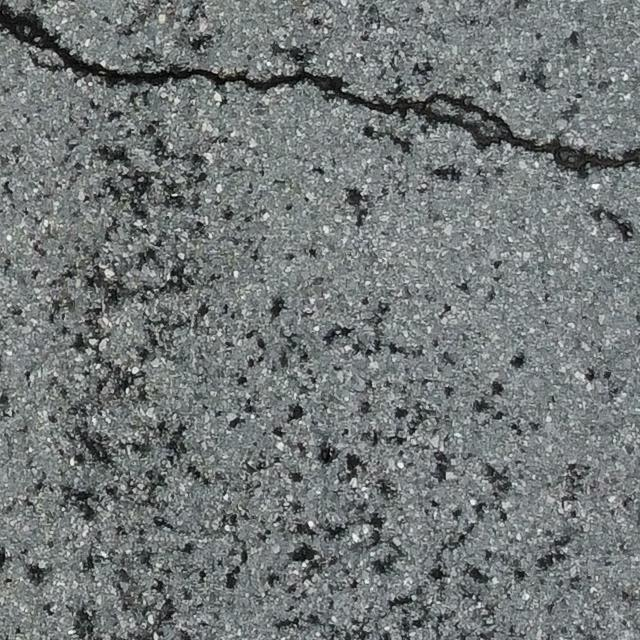TransverseCrack: (1, 1, 640, 182)
